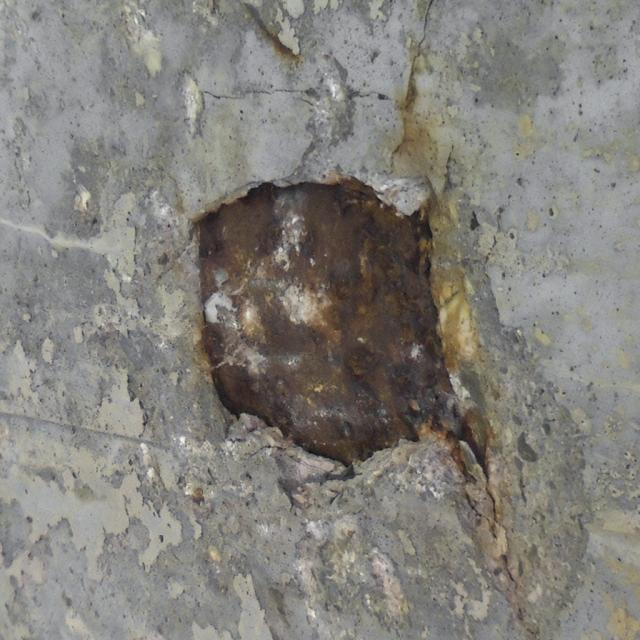D10: (198, 174, 490, 489)
